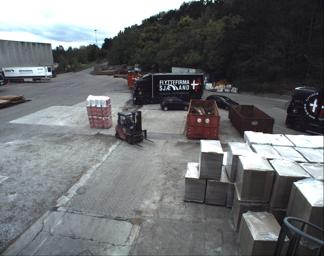rockwool_batts: (86, 92, 112, 127)
